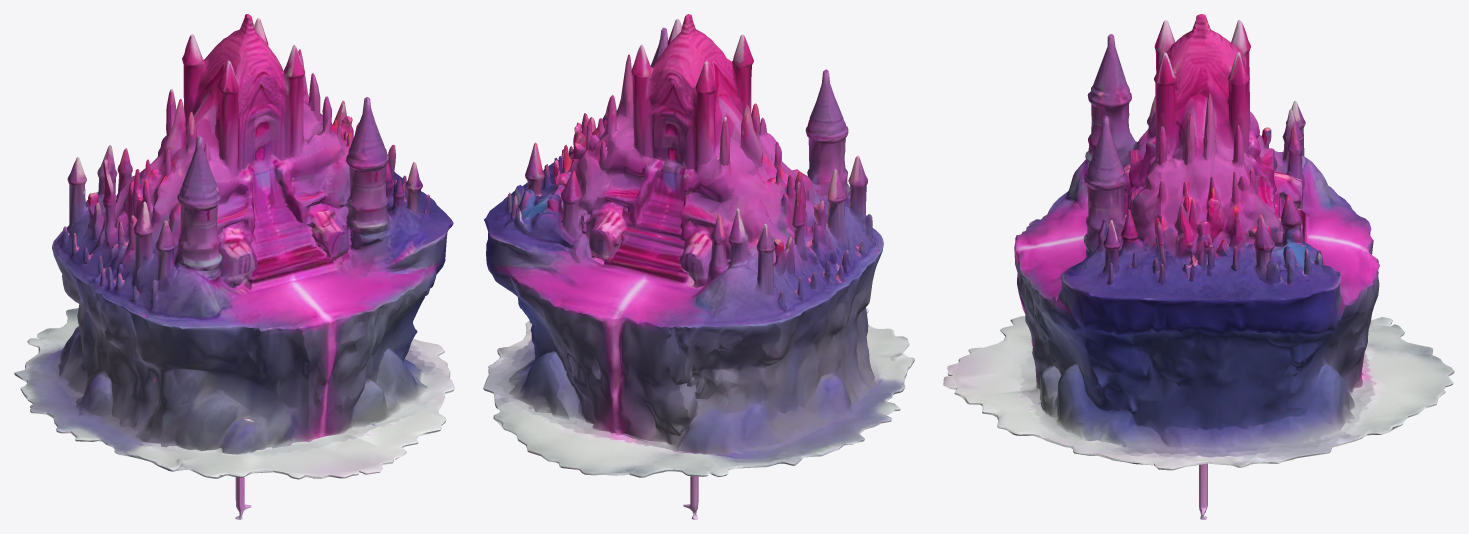
Rendered from outer-shoal-west-generated-2026-05-17T21-11-07-686Z.medium.glb.
3 views of the same model, side by side, from view 1: azimuth 30°, elevation 25°; view 2: azimuth 150°, elevation 25°; view 3: azimuth 270°, elevation 25° (orthographic).
Visible parts, largest first — view 1: temp_mesh.ply; view 2: temp_mesh.ply; view 3: temp_mesh.ply.
Boxes of the visible parts, x1=… form: temp_mesh.ply: x1=14, y1=14, x2=454, y2=519; temp_mesh.ply: x1=483, y1=14, x2=914, y2=519; temp_mesh.ply: x1=943, y1=14, x2=1454, y2=519.
Size of the model in its own units: 1.54 by 1.97 by 1.8.
Materials: 1 (1 with a texture image).
